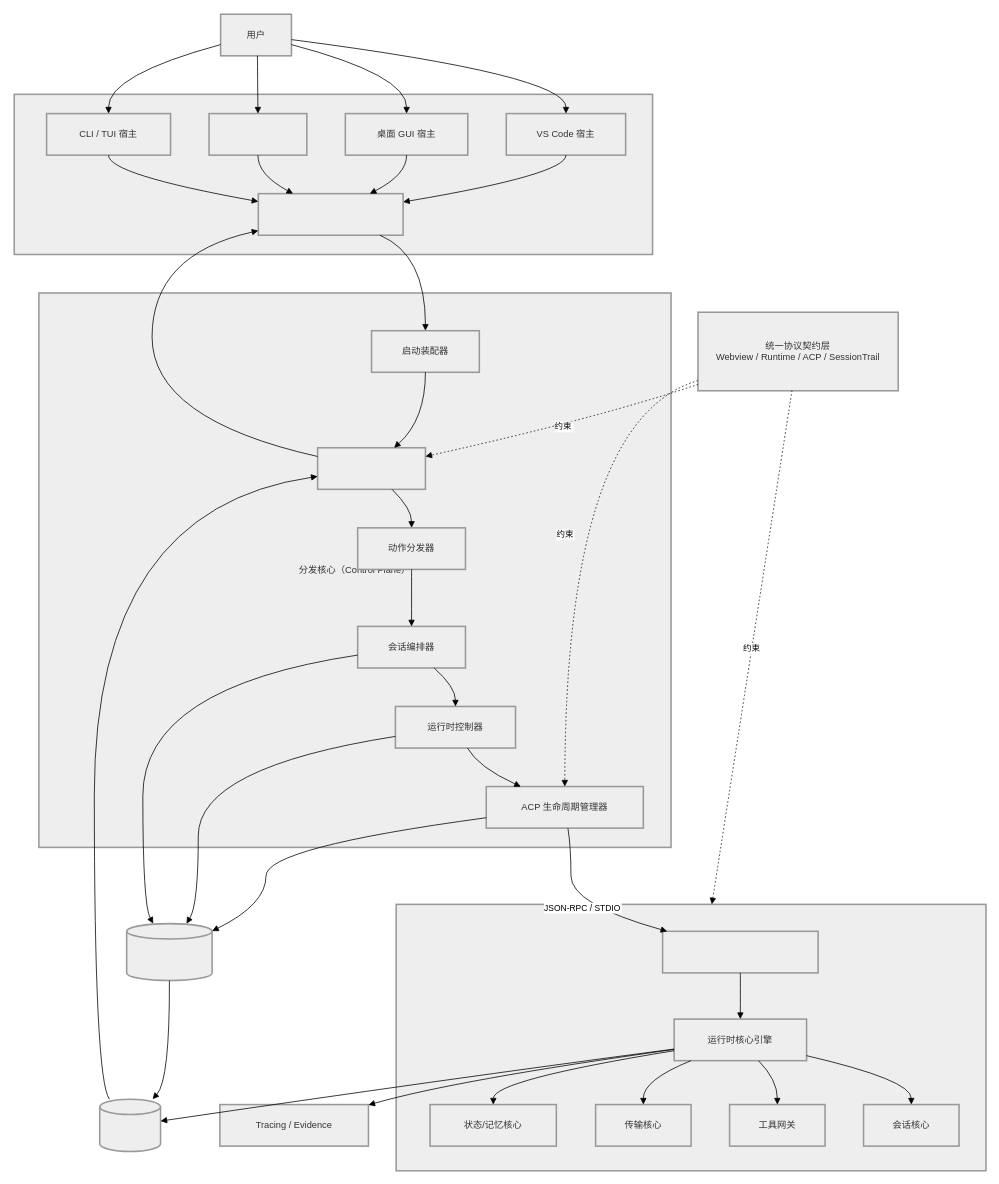
The diagram is 999 pixels wide and 1184 high, and some of its shapes have lost their labels. The box of each missing label's shape, as (x1, y1, x2, y2) in pixels:
Runtime 核心底座（Execution Plane）: (395, 903, 986, 1171)
Web 宿主: (208, 112, 307, 156)
事件总线: (99, 1098, 161, 1152)
宿主桥接器: (316, 447, 426, 490)
接入层（多宿主入口）: (13, 93, 653, 255)
统一 Agent Runtime: (661, 930, 819, 973)
统一宿主接入网关: (257, 192, 403, 236)
统一状态存储: (126, 922, 213, 981)
